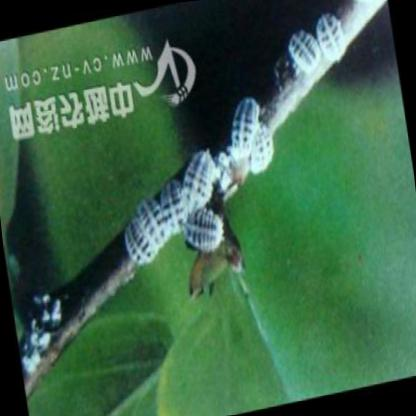mealy bug: (181, 148, 214, 214), (137, 199, 170, 252), (231, 96, 258, 159), (185, 210, 224, 251), (289, 30, 322, 74), (124, 219, 154, 265), (318, 13, 345, 63), (160, 179, 184, 233), (251, 121, 274, 172)
